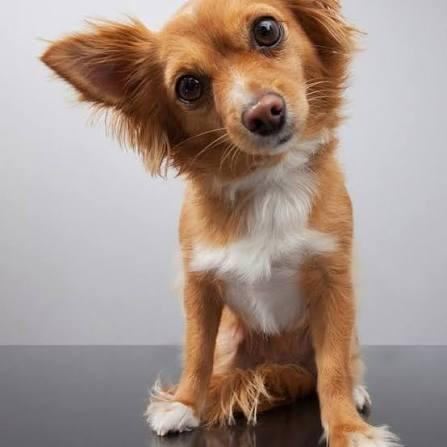adult_dog: (39, 0, 402, 447)
